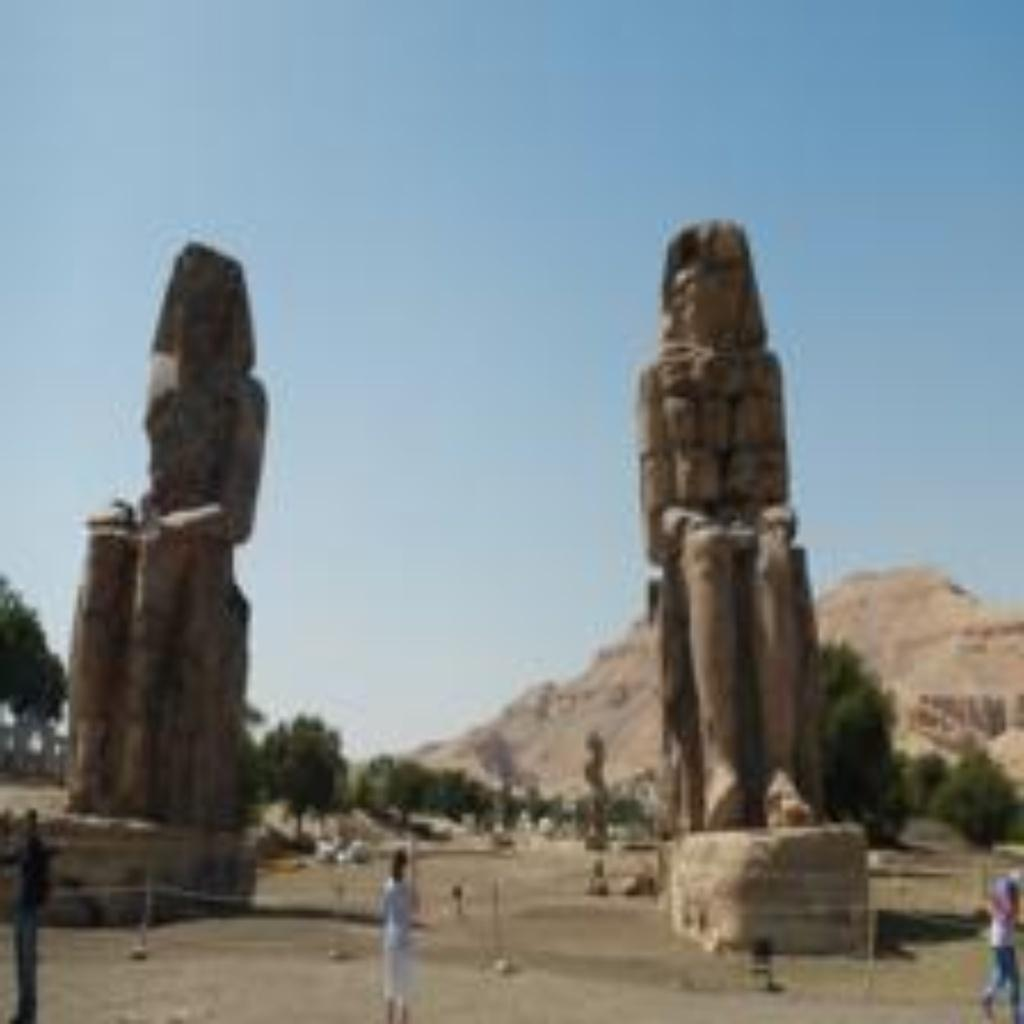Colossoi of Memnon: (617, 206, 873, 956), (54, 231, 276, 835)
